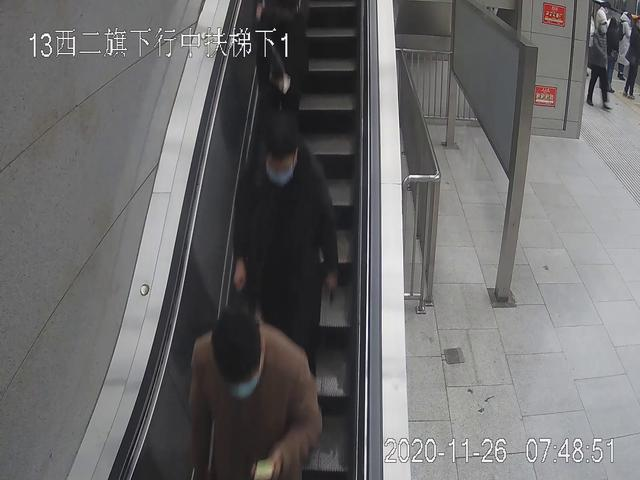person: (234, 116, 338, 414), (188, 313, 321, 480), (585, 13, 619, 113)
